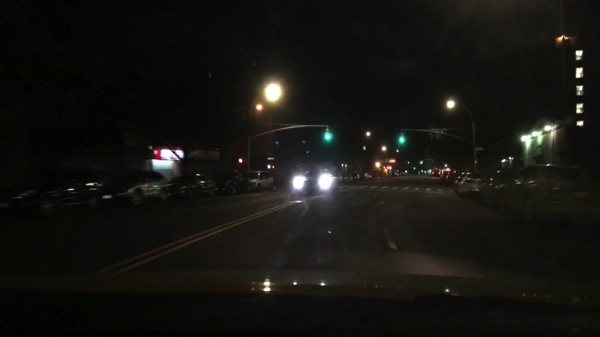car: (498, 164, 599, 226), (0, 164, 104, 219), (100, 169, 171, 206), (167, 174, 218, 202), (287, 166, 338, 194), (480, 171, 510, 210), (215, 171, 251, 197), (456, 174, 485, 197), (248, 173, 274, 193), (443, 170, 461, 187), (452, 172, 466, 188), (440, 169, 454, 184), (337, 171, 351, 183), (429, 169, 443, 176), (392, 169, 404, 177), (359, 173, 372, 180), (353, 173, 360, 181)
traffic light: (323, 130, 330, 144), (398, 131, 405, 145), (237, 157, 244, 164), (266, 162, 272, 169), (473, 159, 479, 164)
traffic sign: (266, 156, 275, 161), (475, 146, 484, 151)
